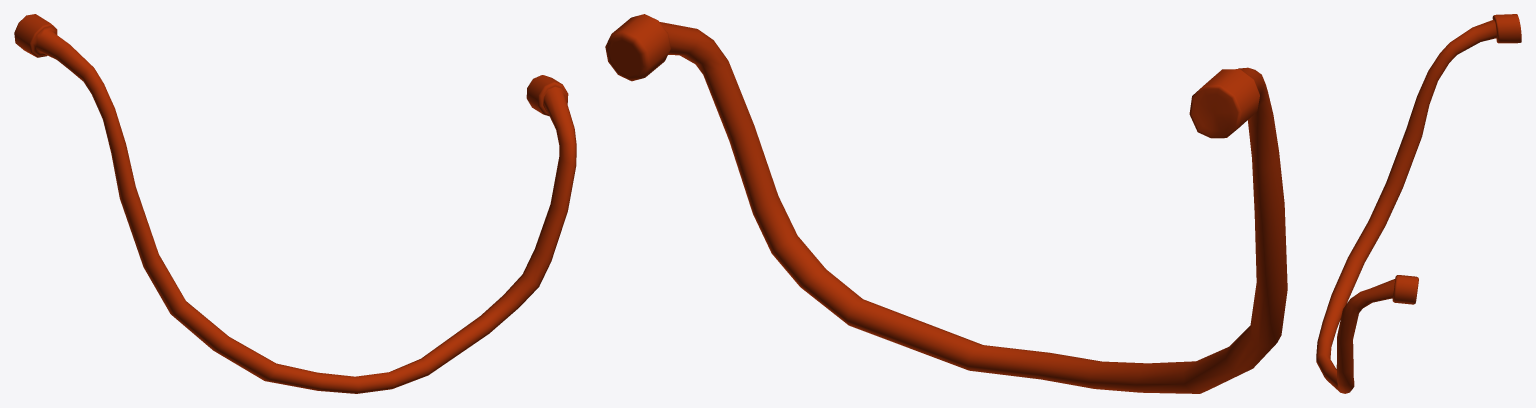
Rendered from Cable_02.fbx.
3 renders of one model, left to right at view 1: azimuth 30°, elevation 25°; view 2: azimuth 150°, elevation 25°; view 3: azimuth 270°, elevation 25°, orthographic. The views are drawn at different scales.
Visible parts, largest first — view 1: Cable_02; view 2: Cable_02; view 3: Cable_02.
Boxes of the visible parts, <box> form: Cable_02: <box>14,14,576,393</box>; Cable_02: <box>605,14,1287,393</box>; Cable_02: <box>1316,14,1521,393</box>.
Bounding box in the file's own units: 38.61 × 26.31 × 18.65.
